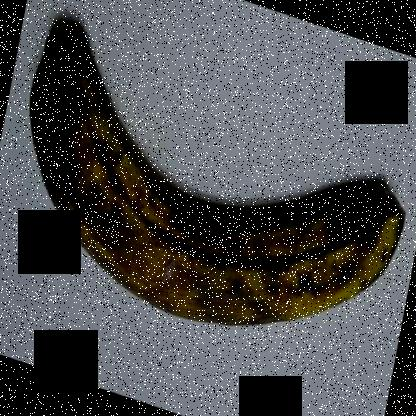overripe: (20, 19, 413, 345)
rotten: (25, 19, 101, 207)
